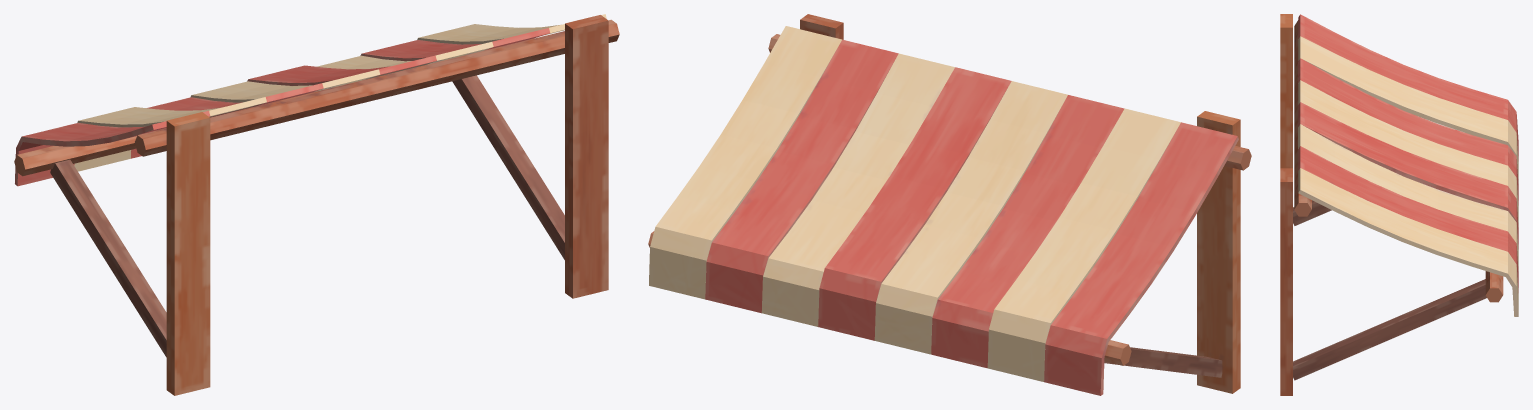
The model's file is awning_low.fbx.
The picture shows the model from 3 angles, left to right: view 1: azimuth 30°, elevation 25°; view 2: azimuth 150°, elevation 25°; view 3: azimuth 270°, elevation 25°; orthographic projection. The views are drawn at different scales.
Visible parts, largest first — view 1: awning; view 2: awning; view 3: awning.
Part boxes in pixels (left/top/right/bottom): awning: left=14, top=14, right=619, bottom=395; awning: left=648, top=14, right=1251, bottom=395; awning: left=1280, top=14, right=1518, bottom=395.
Size of the model in its own units: 6.9 by 3.75 by 3.78.
1 material, 1 textured.
